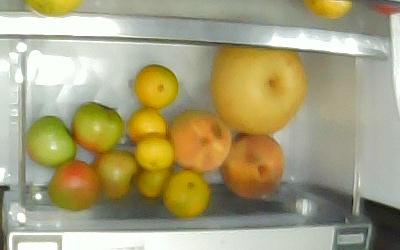peach: (218, 130, 284, 198), (165, 108, 231, 172)
pear: (208, 49, 307, 135)
tangerine: (161, 167, 210, 218), (133, 63, 179, 109), (124, 105, 168, 144), (133, 135, 174, 171), (133, 166, 173, 198)
tomato: (69, 100, 123, 154), (46, 158, 100, 211), (23, 114, 76, 167), (89, 147, 140, 200)
